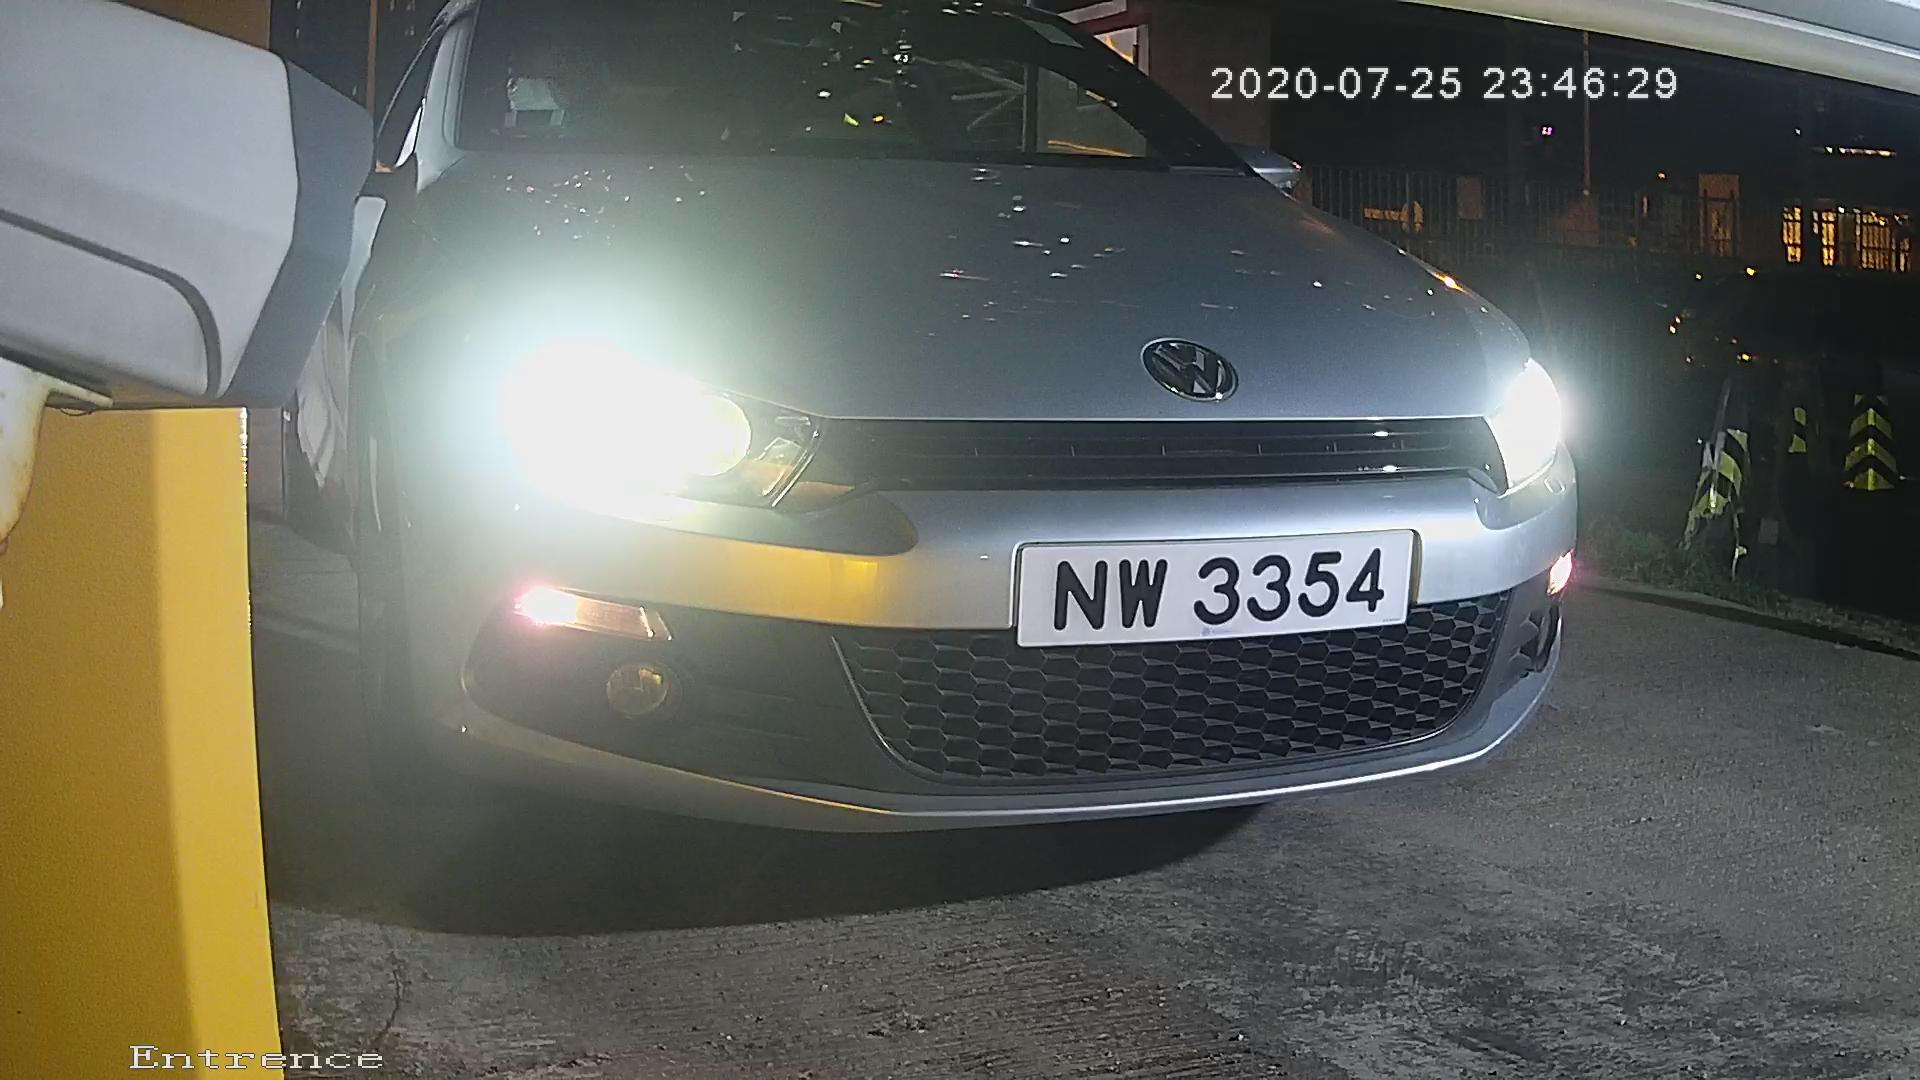Car: (78, 1, 1698, 888)
License Plate: (986, 516, 1441, 666)
